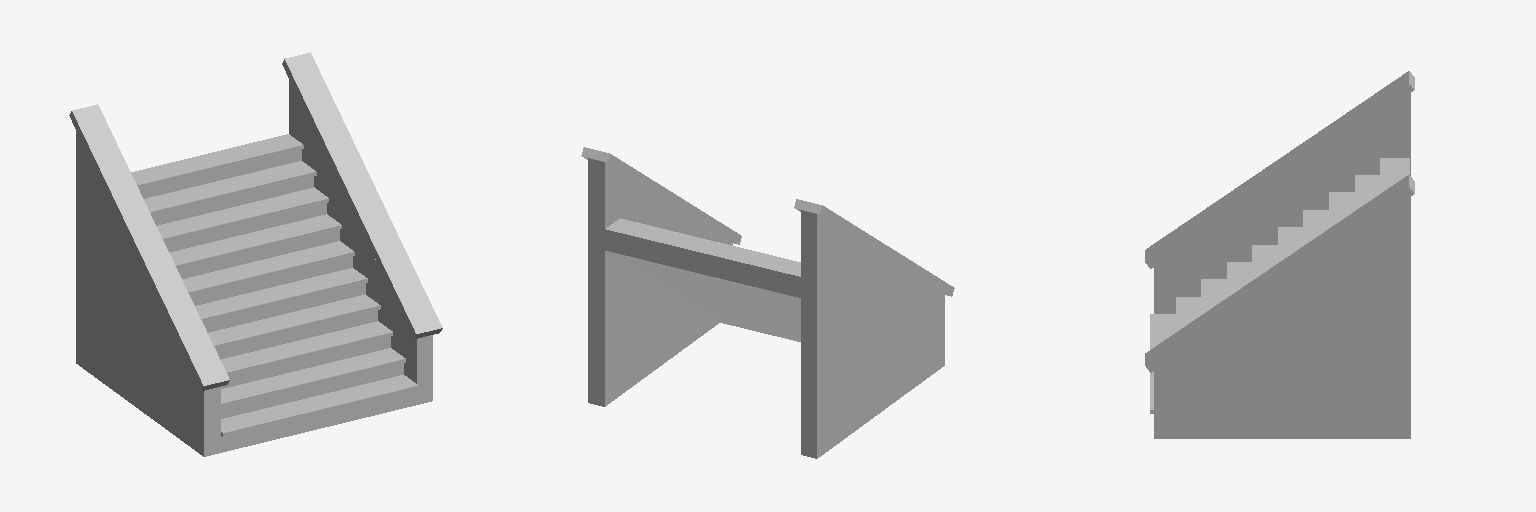
Rendered from escaleras.obj.
The picture shows the model from 3 angles: view 1: azimuth 30°, elevation 25°; view 2: azimuth 150°, elevation 25°; view 3: azimuth 270°, elevation 25°; orthographic projection.
Visible parts, largest first — view 1: pCube12; view 2: pCube12; view 3: pCube12.
Part boxes in pixels (x1,y1,x2,y2): pCube12: (69,52,442,456); pCube12: (581,147,954,458); pCube12: (1145,71,1414,438).
Size of the model in its own units: 5.21 by 5.29 by 5.08.